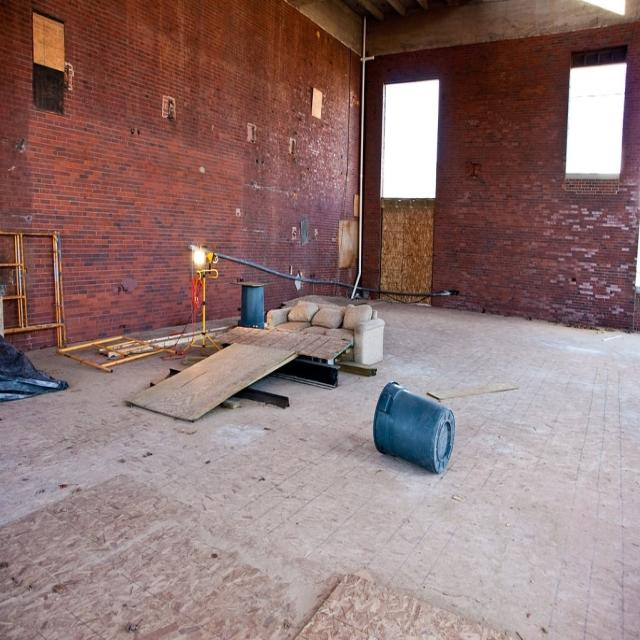Metal: (184, 240, 223, 336)
Plastics: (366, 366, 462, 492), (228, 262, 291, 349)
